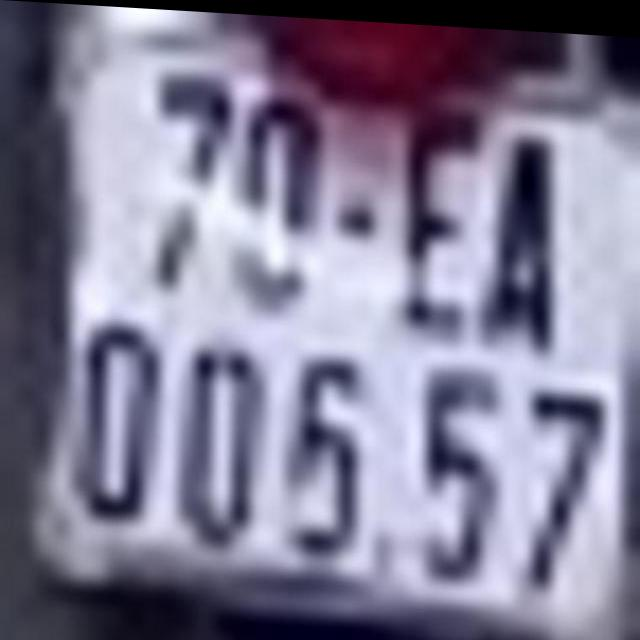0: (176, 346, 258, 549), (244, 98, 322, 306), (79, 320, 158, 517)
5: (424, 363, 496, 578), (292, 353, 359, 553)
7: (157, 76, 230, 285), (529, 379, 603, 585)
A: (486, 126, 554, 348)
E: (408, 108, 474, 327)
